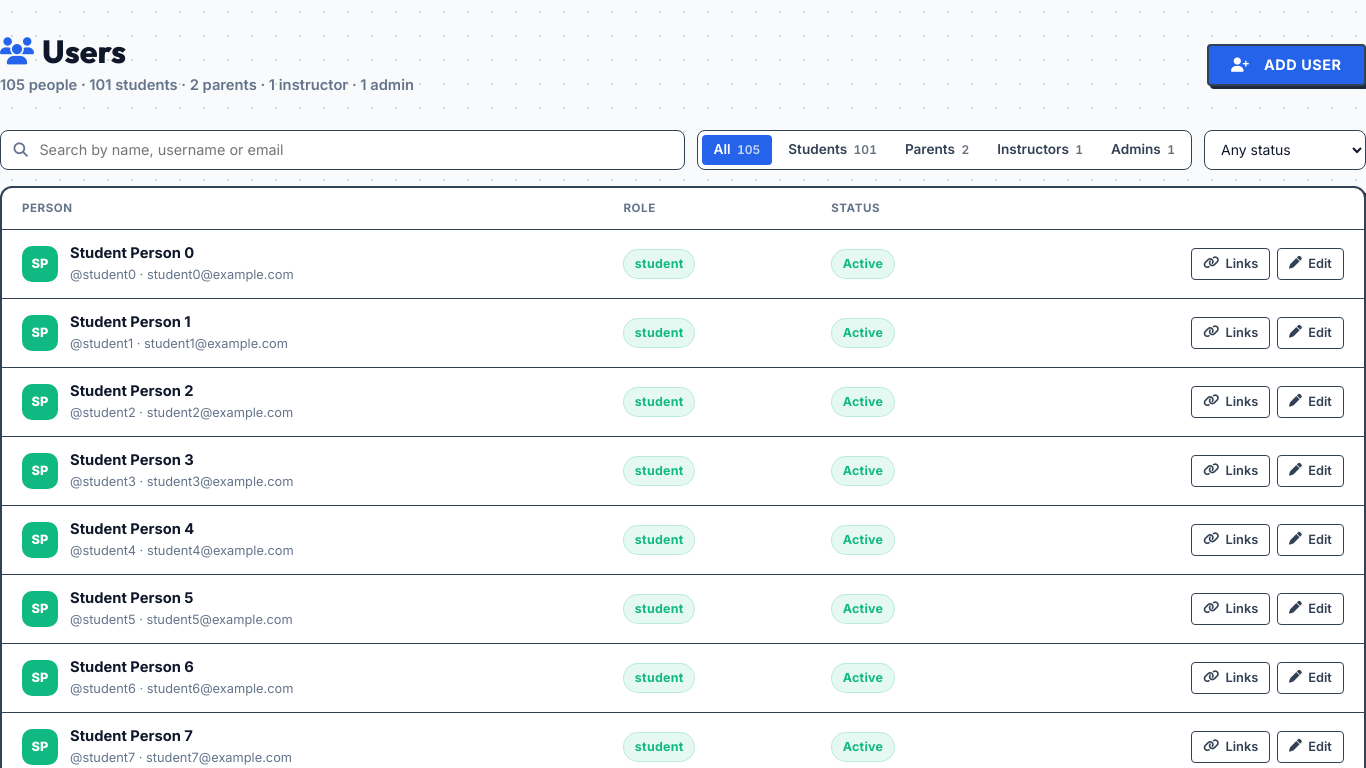
it: users list › keeps deactivation one step away, inside the Edit dialog
Expected: the text "105 people" is shown, [0,76,414,94]
Click the button with aria-label "Edit Student Person 0" at (1310, 264), box [1277,248,1344,280]
(page scrolled)
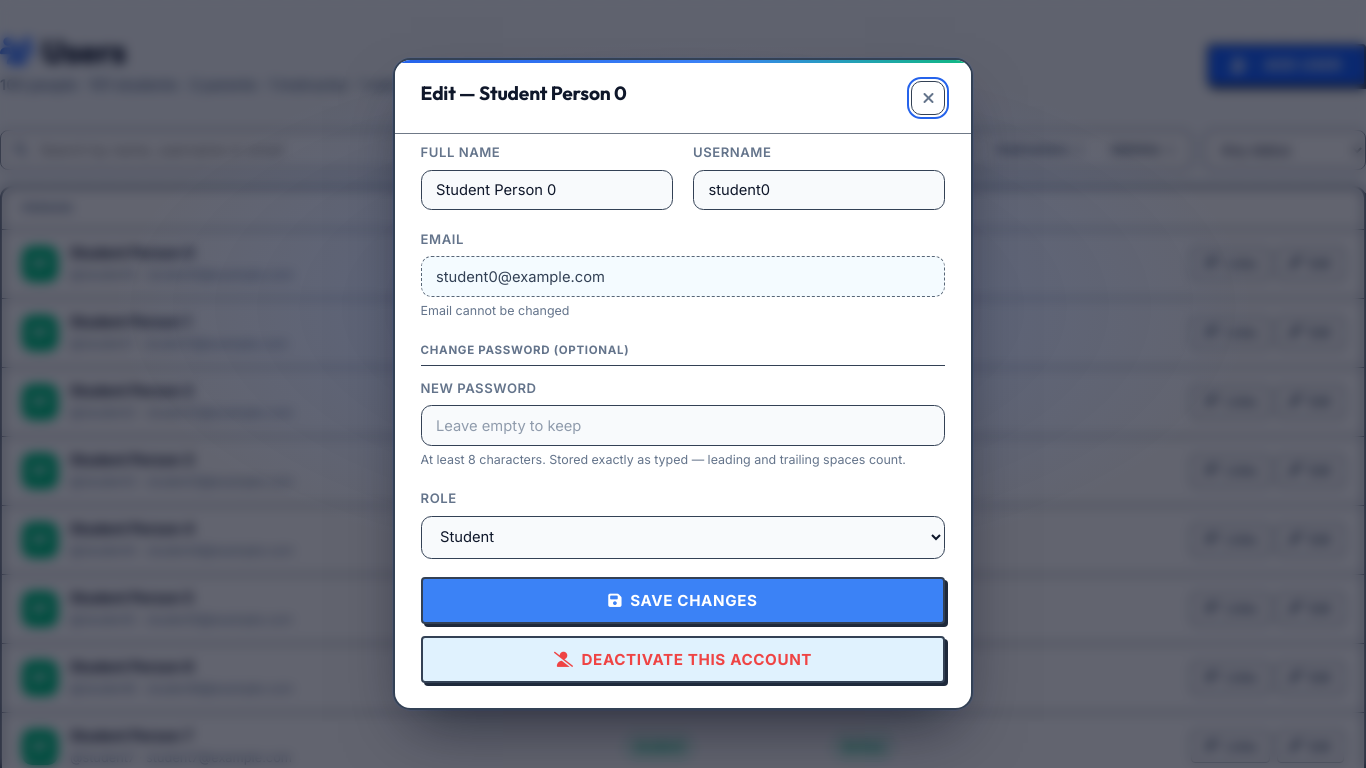
Click the button "Deactivate this account" at (683, 660), box [421,636,945,683]
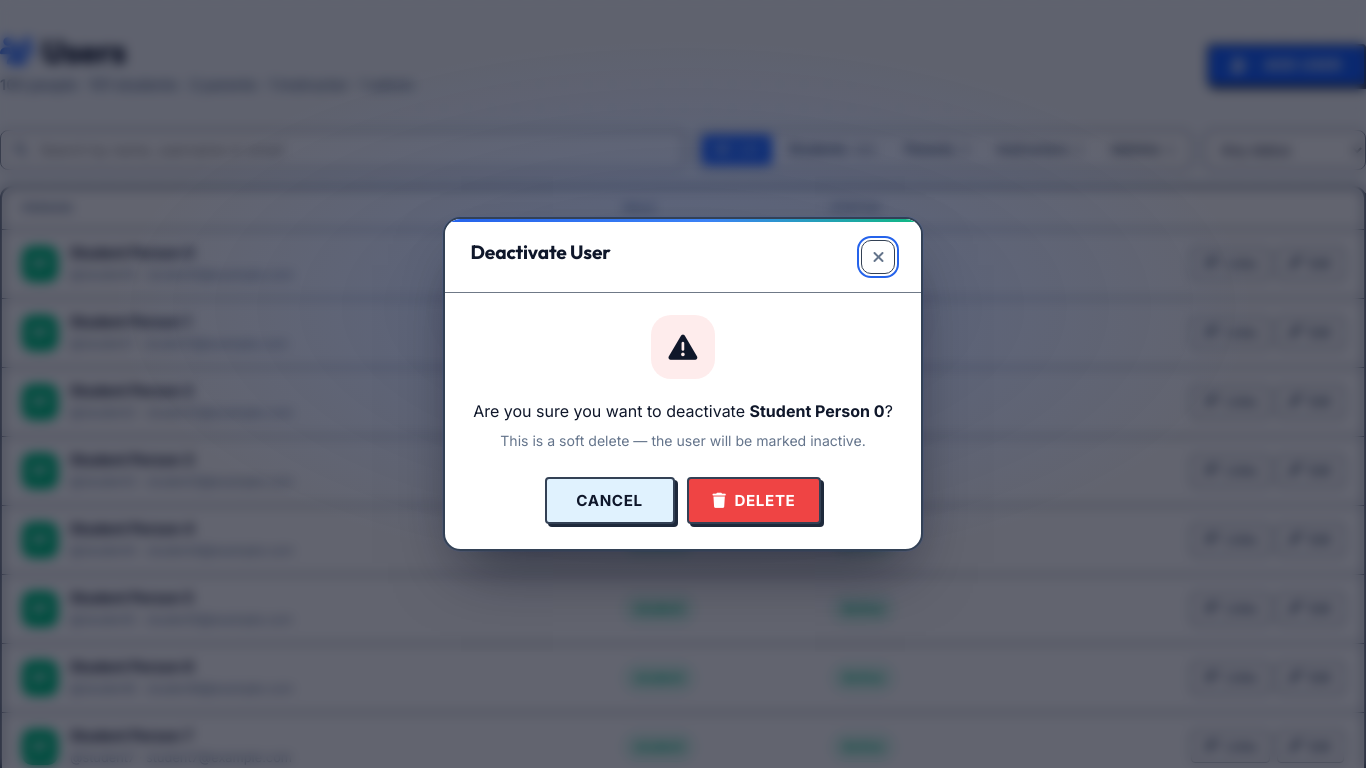
Now the heading "Deactivate User" is shown, box [471,240,610,265]
Now the text "Are you sure you want to deactivate Student Person 0?" is shown, box [471,399,895,425]
